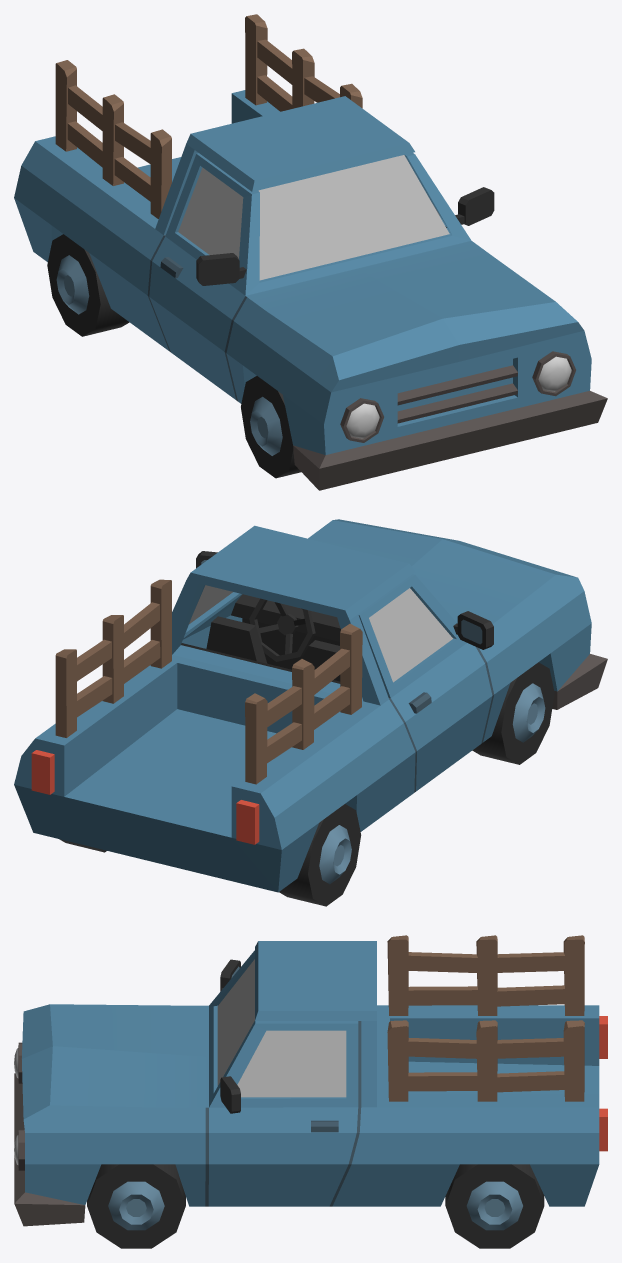
The model's file is Pickup.fbx.
The picture shows the model from 3 angles, top to bottom: view 1: azimuth 30°, elevation 25°; view 2: azimuth 150°, elevation 25°; view 3: azimuth 270°, elevation 25°; orthographic projection. The views are drawn at different scales.
Parts seen in each view (by area): view 1: Pickup; view 2: Pickup; view 3: Pickup.
Boxes of the visible parts, bbox=[...] form: Pickup: bbox=[14, 14, 607, 490]; Pickup: bbox=[14, 519, 607, 906]; Pickup: bbox=[14, 935, 607, 1248].
Bounding box in the file's own units: 72.51 × 54.1 × 136.
